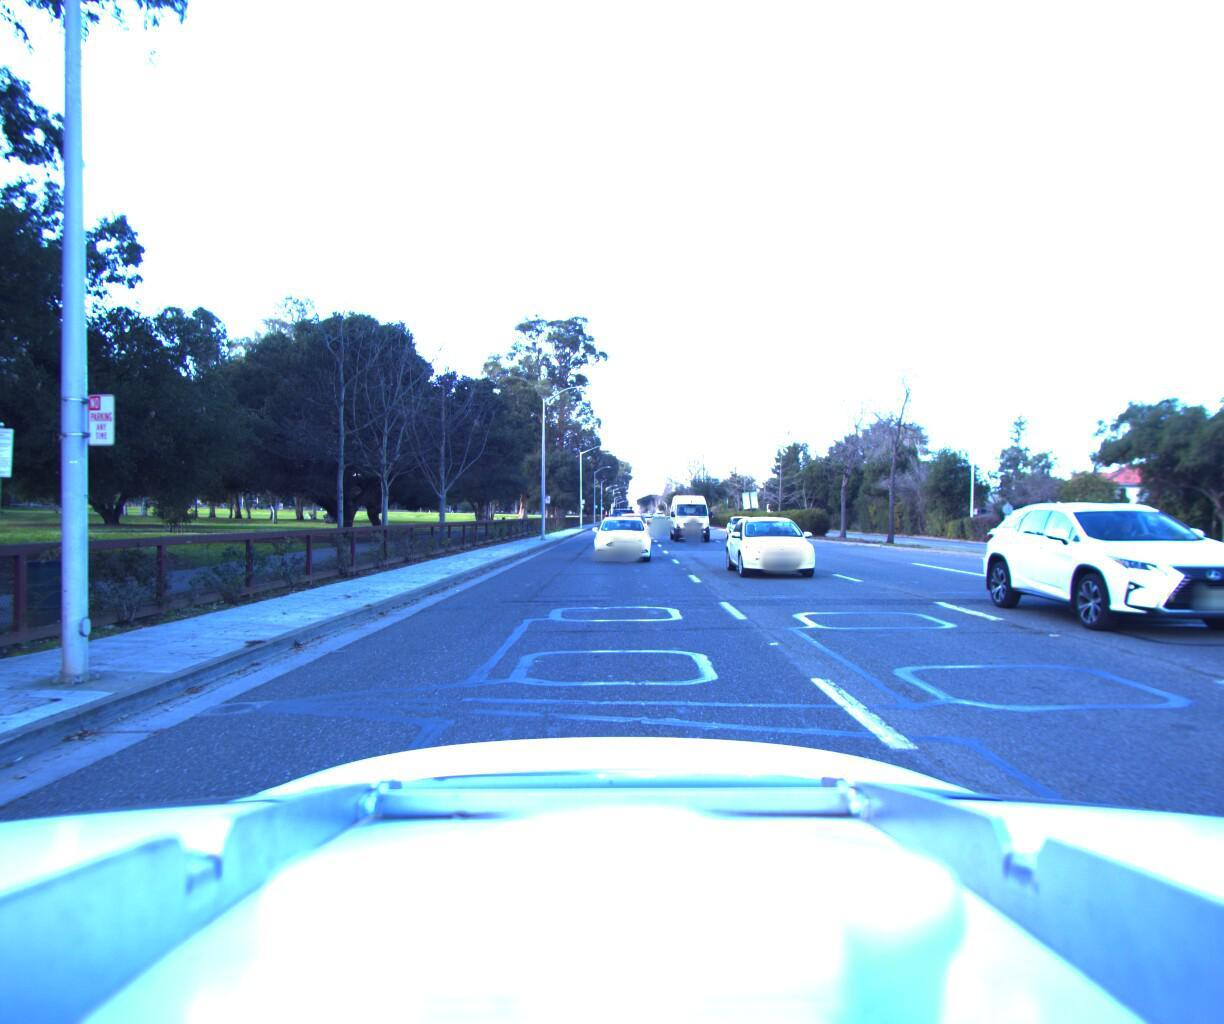car: (1011, 482, 1224, 667), (727, 513, 840, 584), (592, 511, 654, 560), (669, 491, 713, 540), (616, 510, 653, 543), (607, 499, 634, 532)
